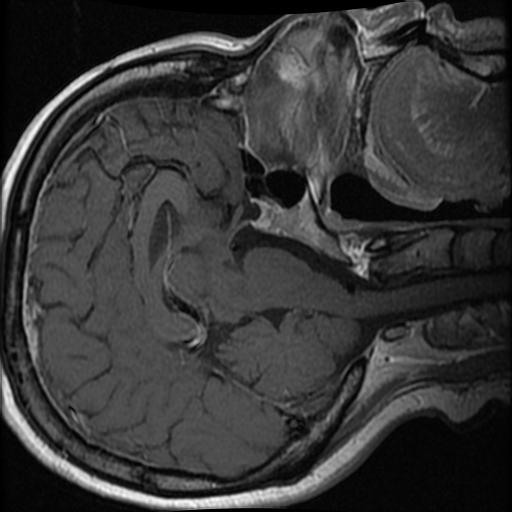pituitary tumour: (249, 197, 273, 229)
